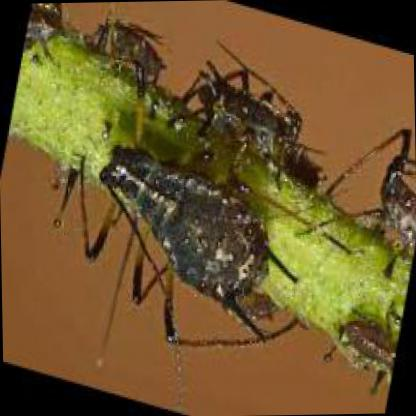uroleucon compositae: (97, 142, 295, 338)
